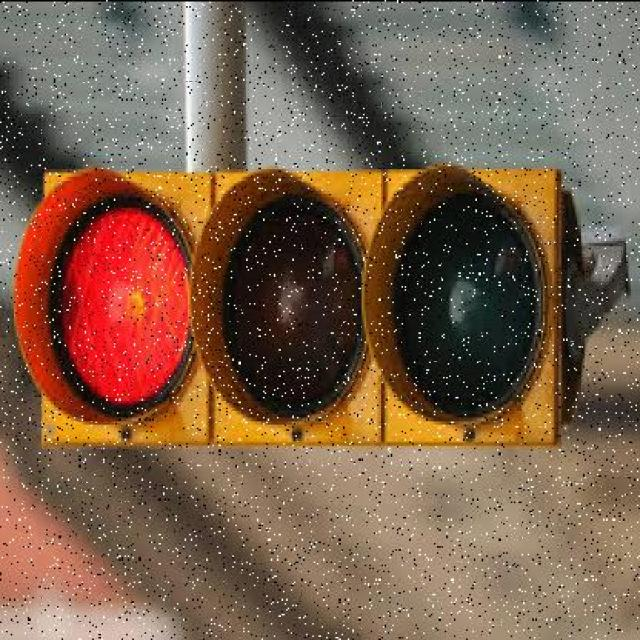red-light: (16, 157, 592, 479)
